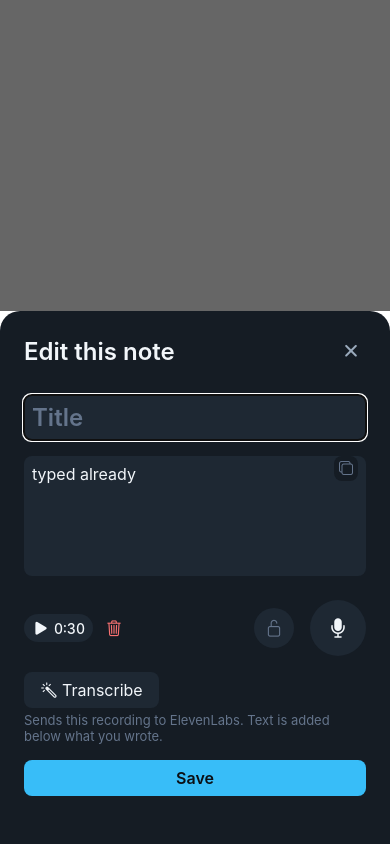
Test: transcribing the recording › does not save on its own; the transcript waits in the field
Click the button with aria-label "Transcribe the recording".
click(91, 690)  # box [24, 672, 159, 708]
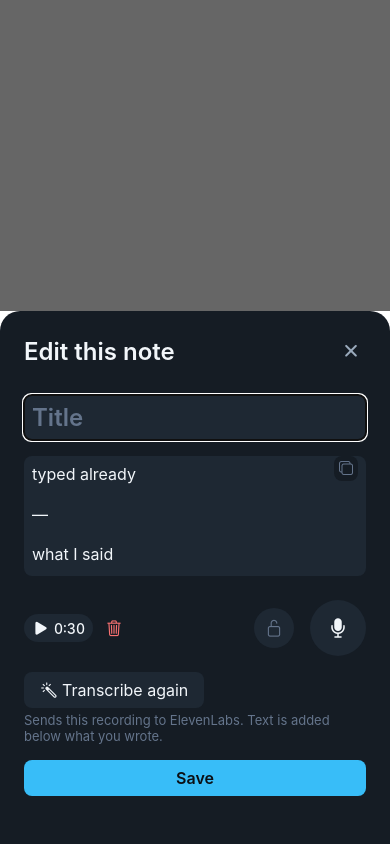
Expected: the text box showing "what I said" is shown, [24, 456, 366, 576]
